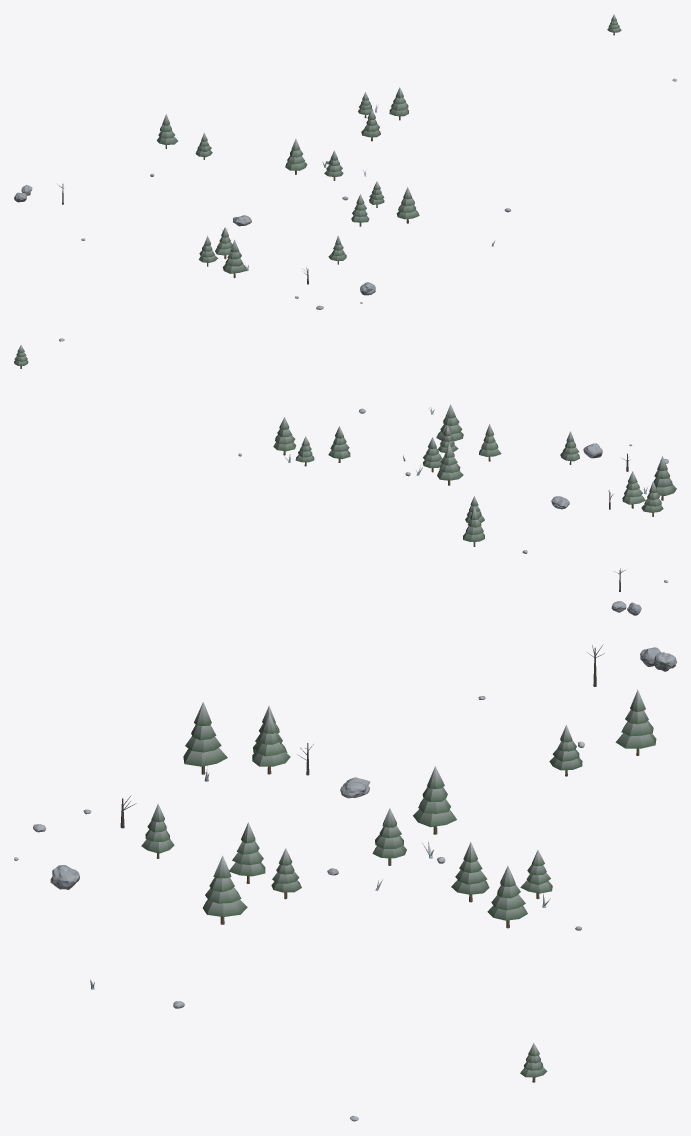
File: frost_land_scatter_c24_10.glb
3 renders of one model, top to bottom at view 1: azimuth 30°, elevation 25°; view 2: azimuth 150°, elevation 25°; view 3: azimuth 270°, elevation 25°, orthographic. The views are drawn at different scales.
Parts seen in each view (by area): view 1: frost_land_scatter_c24_10; view 2: frost_land_scatter_c24_10; view 3: frost_land_scatter_c24_10.
Part boxes in pixels (<box>): frost_land_scatter_c24_10: <box>14,14,676,309</box>; frost_land_scatter_c24_10: <box>14,338,676,615</box>; frost_land_scatter_c24_10: <box>14,644,676,1121</box>.
Size of the model in its own units: 204 by 33.12 by 107.
